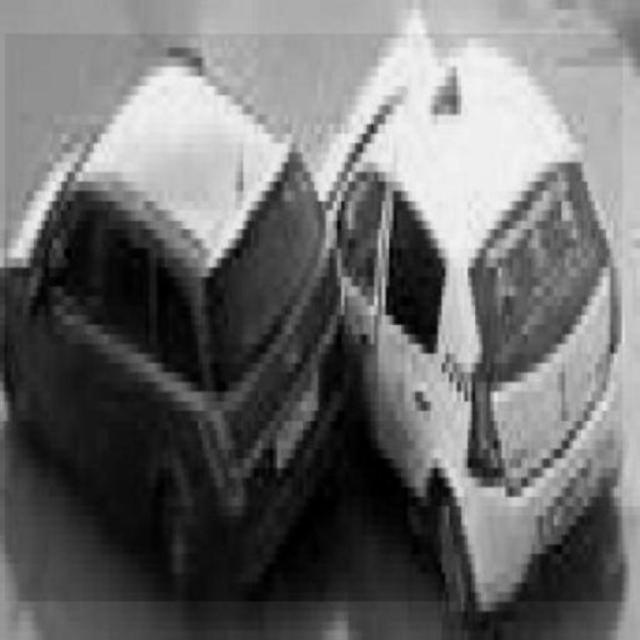accident: (5, 33, 622, 601)
